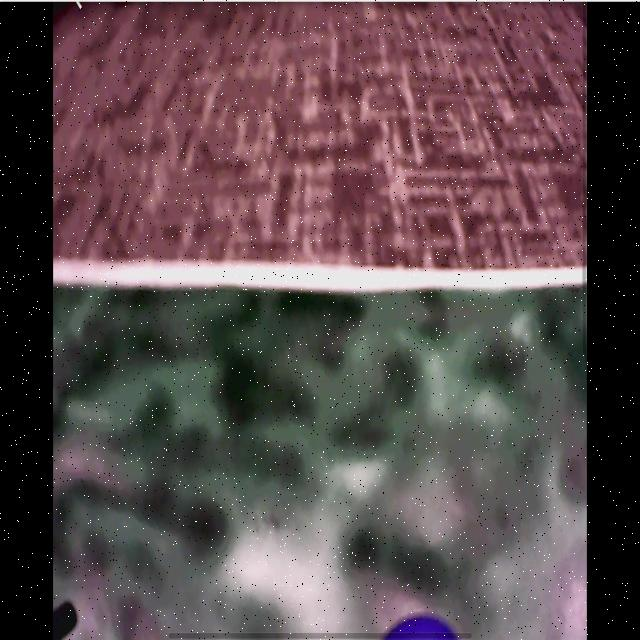ball: (385, 613, 458, 640)
